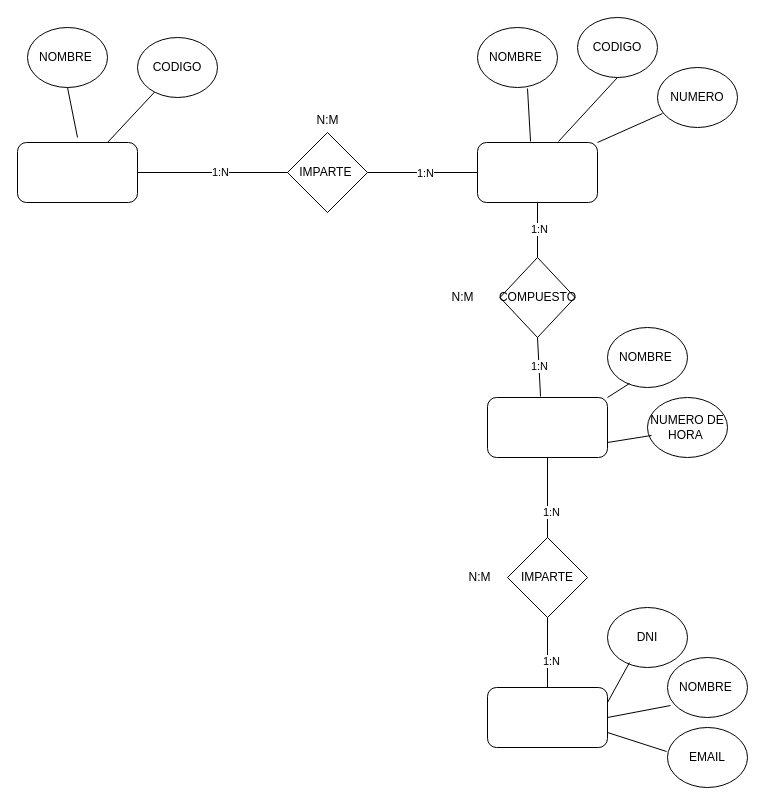
The diagram is 765 pixels wide and 805 high, and some of its shapes have lost their labels. Each missing label, with the centre of its shape:
"CICLO" belongs at (x=537, y=172).
"DEPARTAMENTO" belongs at (x=77, y=172).
"DOCENTE" belongs at (x=547, y=717).
"MODULO PROFESIONAL" belongs at (x=547, y=427).
